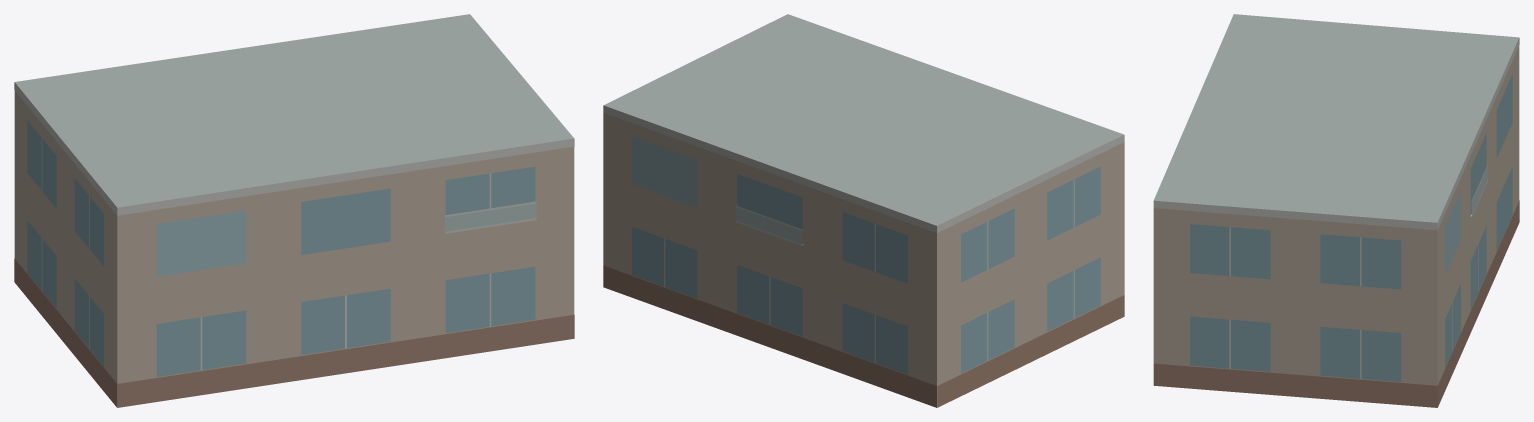
Rendered from survey-upis-32665145.glb.
3 views of the same model, side by side, from view 1: azimuth 30°, elevation 25°; view 2: azimuth 150°, elevation 25°; view 3: azimuth 270°, elevation 25° (orthographic). The views are drawn at different scales.
Parts seen in each view (by area): view 1: survey-upis-32665145.tmp; view 2: survey-upis-32665145.tmp; view 3: survey-upis-32665145.tmp.
Part boxes in pixels (x1,y1,x2,y2): survey-upis-32665145.tmp: (14,14,574,407); survey-upis-32665145.tmp: (603,14,1124,407); survey-upis-32665145.tmp: (1153,14,1519,407).
Size of the model in its own units: 14.78 by 6.1 by 10.94.
